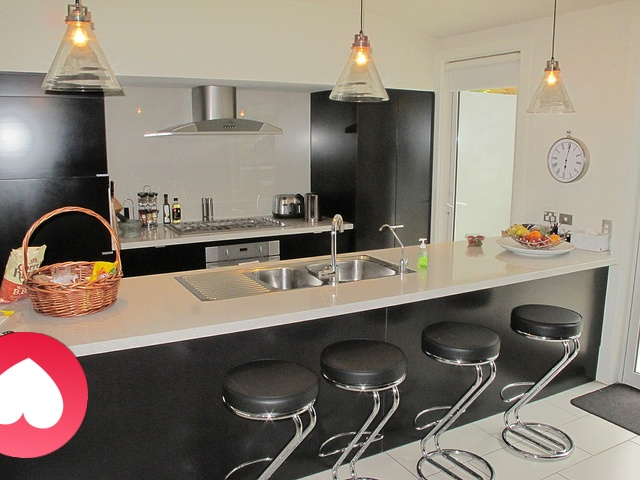love: (0, 332, 88, 458)
